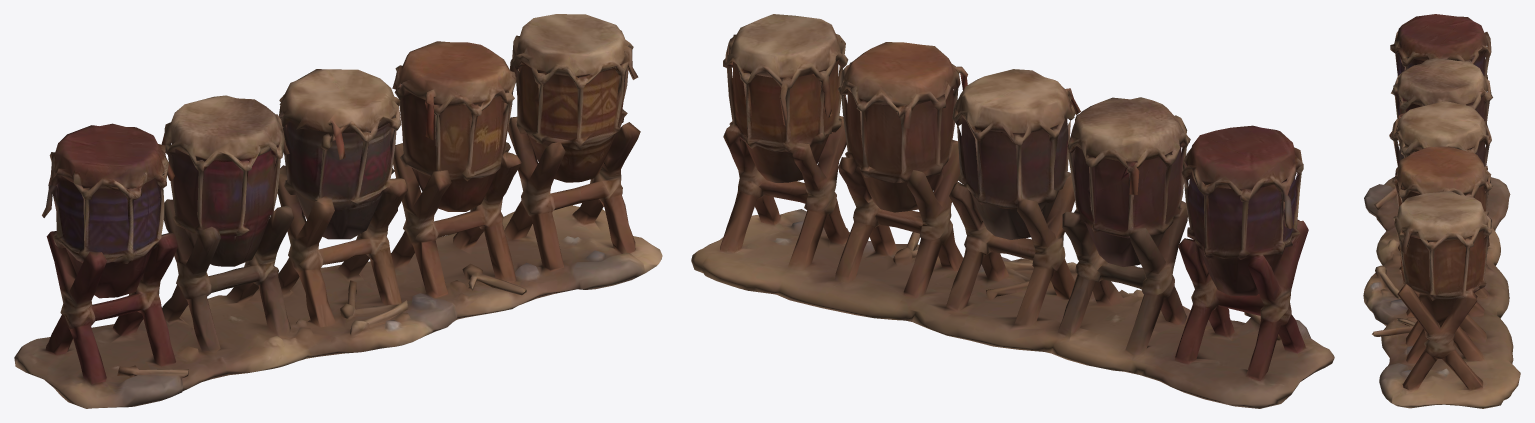
File: festival_ground_drum_set.glb
The picture shows the model from 3 angles, left to right: view 1: azimuth 30°, elevation 25°; view 2: azimuth 150°, elevation 25°; view 3: azimuth 270°, elevation 25°; orthographic projection. The views are drawn at different scales.
Visible parts, largest first — view 1: tripo_node_d816ca79-02bc-4678-b1d1-83dff70e97c0; view 2: tripo_node_d816ca79-02bc-4678-b1d1-83dff70e97c0; view 3: tripo_node_d816ca79-02bc-4678-b1d1-83dff70e97c0.
Boxes of the visible parts, x1,y1,x2,y2 form: tripo_node_d816ca79-02bc-4678-b1d1-83dff70e97c0: [14, 14, 662, 408]; tripo_node_d816ca79-02bc-4678-b1d1-83dff70e97c0: [691, 14, 1334, 408]; tripo_node_d816ca79-02bc-4678-b1d1-83dff70e97c0: [1363, 14, 1520, 408].
Bounding box in the file's own units: 1 × 0.3611 × 0.2897.
1 material, 1 textured.
